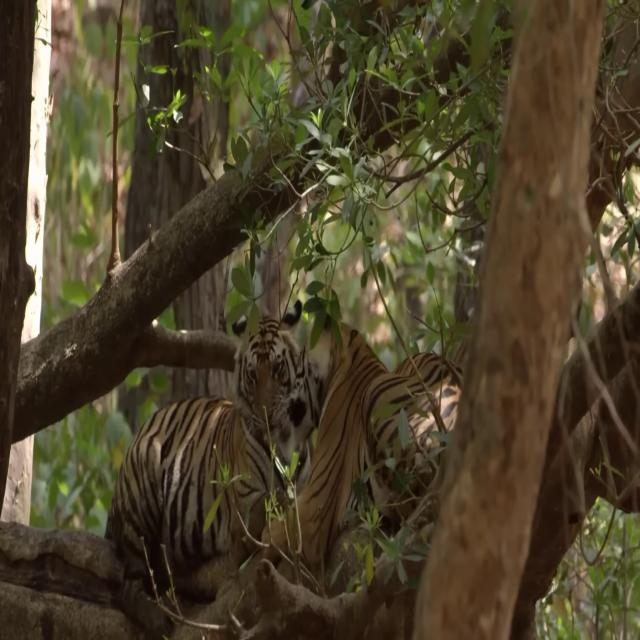tiger: (85, 314, 307, 636)
